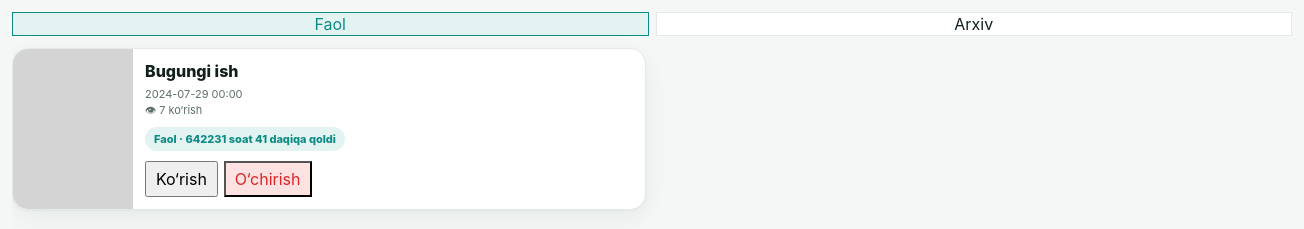
it: v1656 mavjud Onlaynlashtirish ekranlari pariteti › Istoriyalarni Faol/Arxiv tabi va my-story-card bilan ko'rsatadi
Expected: the element that starts with "Bugungi ish" is shown, left=12, top=48, right=646, bottom=210
Expected: the button "Ko‘rish" is shown, left=145, top=161, right=218, bottom=197
Click the button "Arxiv" at (974, 24), box left=656, top=12, right=1292, bottom=36
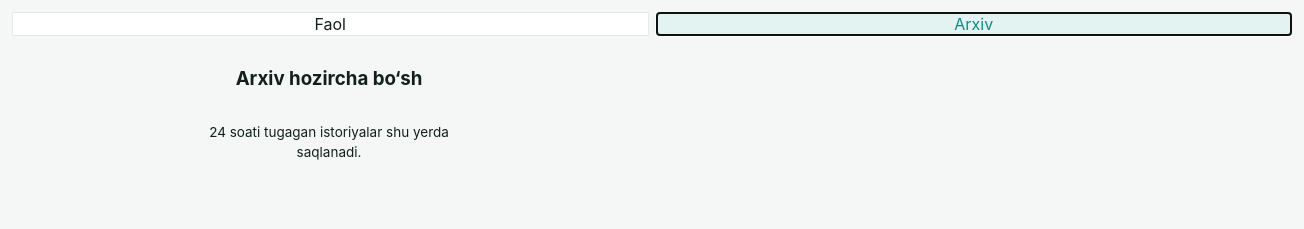
Result: the heading "Arxiv hozircha bo‘sh" is shown at left=236, top=67, right=422, bottom=90
Result: the text "24 soati tugagan istoriyalar shu yerda saqlanadi." is shown at left=209, top=122, right=449, bottom=162
